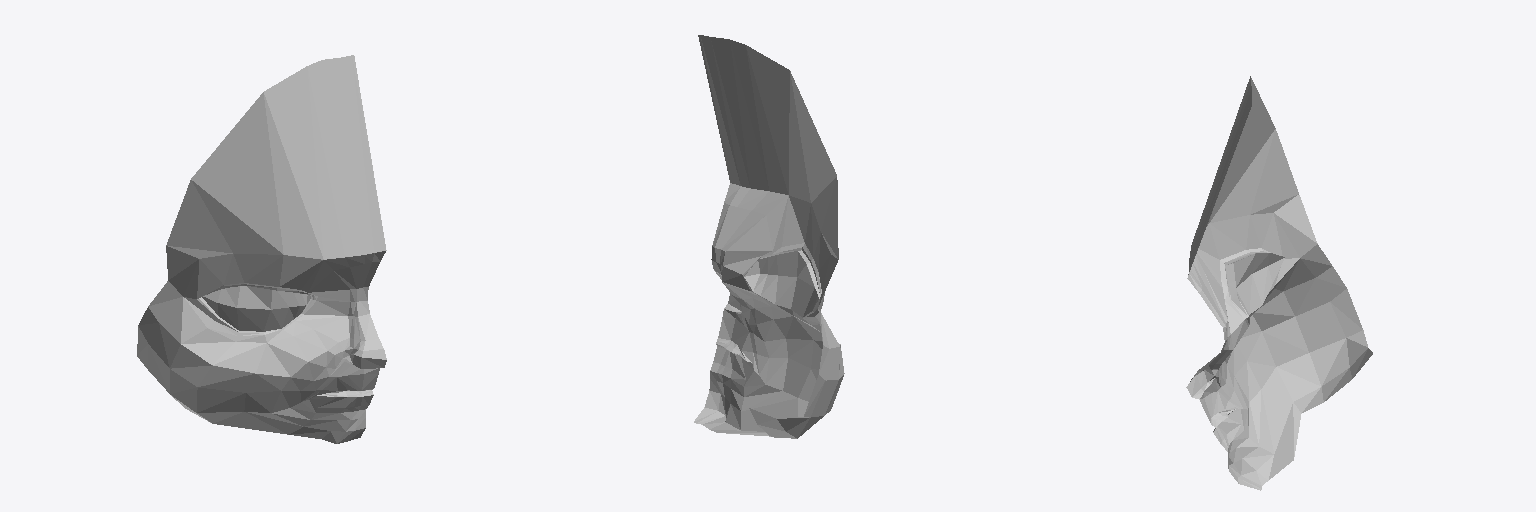
The model's file is halfFace.obj.
3 views of the same model, side by side, from view 1: azimuth 30°, elevation 25°; view 2: azimuth 150°, elevation 25°; view 3: azimuth 270°, elevation 25° (orthographic).
Visible parts, largest first — view 1: pCylinder3; view 2: pCylinder3; view 3: pCylinder3.
Boxes of the visible parts, box(x1,y1,x2,y2) form: pCylinder3: box(137, 55, 386, 443); pCylinder3: box(694, 35, 844, 438); pCylinder3: box(1186, 76, 1372, 490).
Bounding box in the file's own units: 3.55 × 7.81 × 3.42.